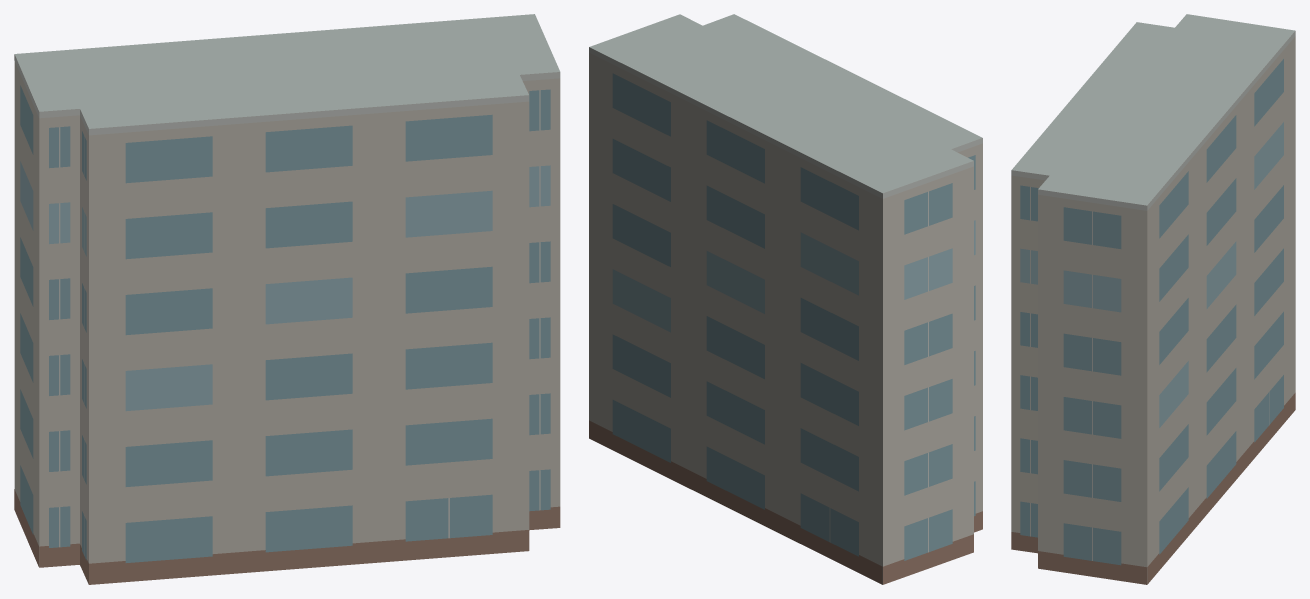
File: survey-upis-32514875.glb
The picture shows the model from 3 angles, left to right: view 1: azimuth 30°, elevation 25°; view 2: azimuth 150°, elevation 25°; view 3: azimuth 270°, elevation 25°; orthographic projection. The views are drawn at different scales.
Parts seen in each view (by area): view 1: survey-upis-32514875.tmp; view 2: survey-upis-32514875.tmp; view 3: survey-upis-32514875.tmp.
Part boxes in pixels (left/top/right/bottom): survey-upis-32514875.tmp: left=14, top=14, right=560, bottom=584; survey-upis-32514875.tmp: left=589, top=14, right=982, bottom=584; survey-upis-32514875.tmp: left=1011, top=14, right=1295, bottom=584.
Bounding box in the file's own units: 18.64 × 17.2 × 11.69.
